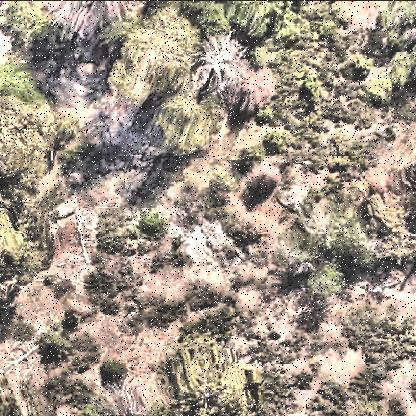tree-top: (157, 332, 272, 415), (283, 201, 379, 299), (1, 165, 52, 264), (151, 95, 219, 165), (1, 1, 63, 49), (366, 46, 414, 102), (226, 2, 280, 41), (1, 62, 49, 103), (134, 209, 170, 244), (35, 326, 71, 361), (98, 359, 127, 387)
